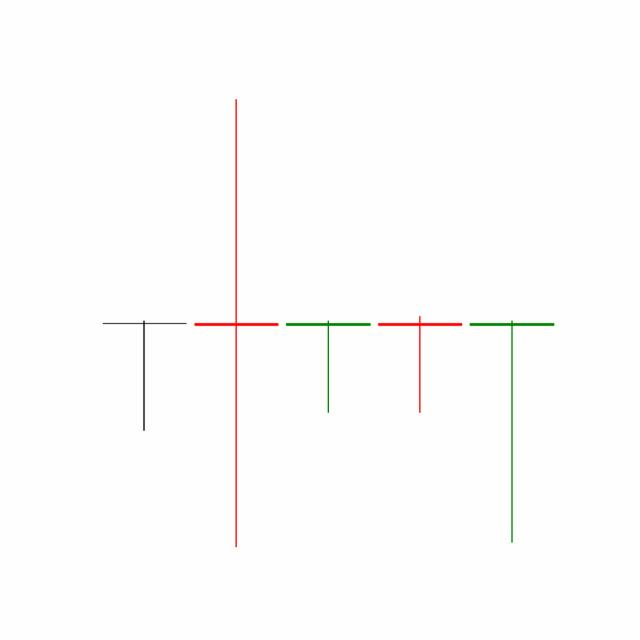Dragonfly Doji: (464, 318, 558, 544)
